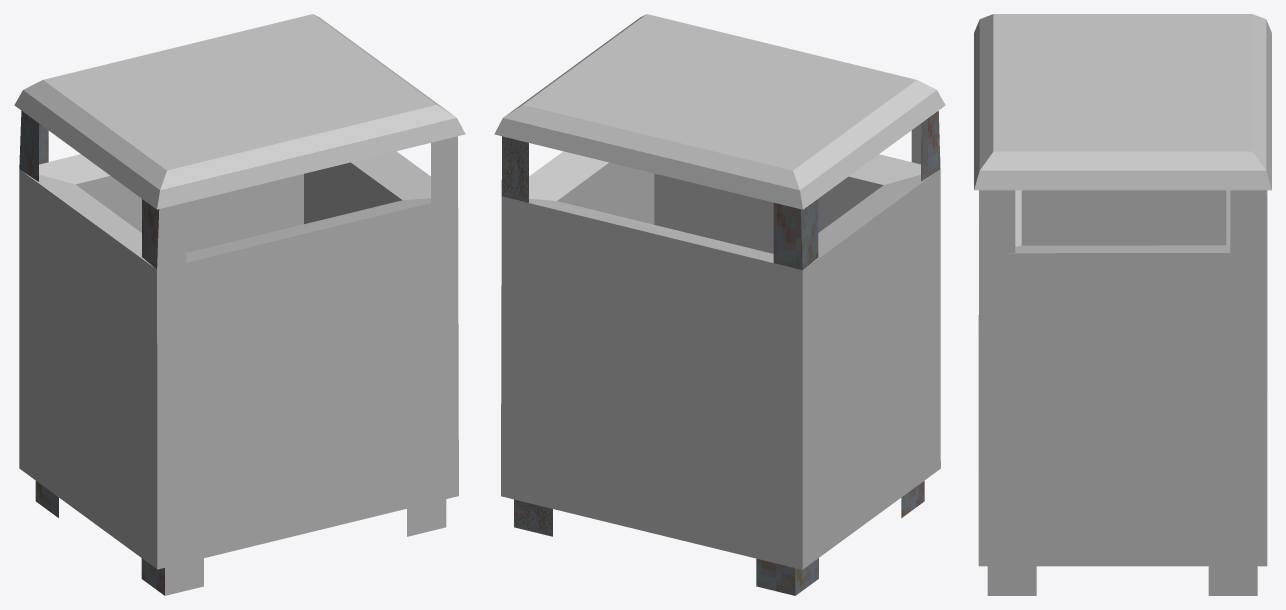
Rendered from bin1.obj.
The picture shows the model from 3 angles, left to right: view 1: azimuth 30°, elevation 25°; view 2: azimuth 150°, elevation 25°; view 3: azimuth 270°, elevation 25°; orthographic projection. The views are drawn at different scales.
Visible parts, largest first — view 1: bin1_L0; view 2: bin1_L0; view 3: bin1_L0.
Boxes of the visible parts, x1,y1,x2,y2 form: bin1_L0: [14, 14, 465, 595]; bin1_L0: [494, 14, 945, 595]; bin1_L0: [974, 14, 1271, 595].
Size of the model in its own units: 0.9932 by 1.3 by 0.7946.
